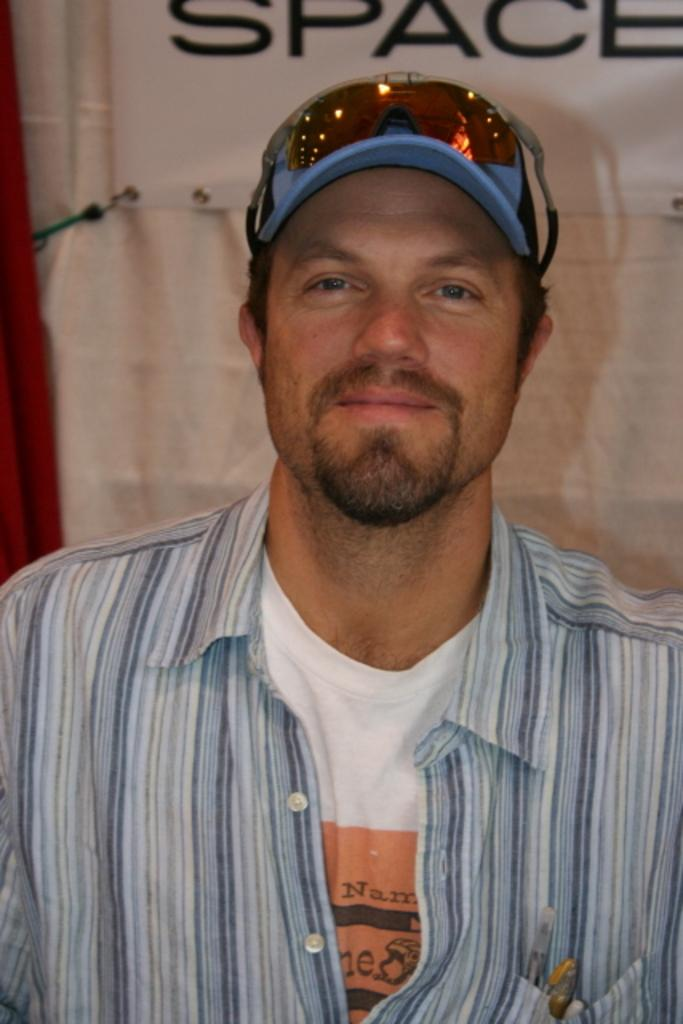Hat: (255, 76, 540, 256)
